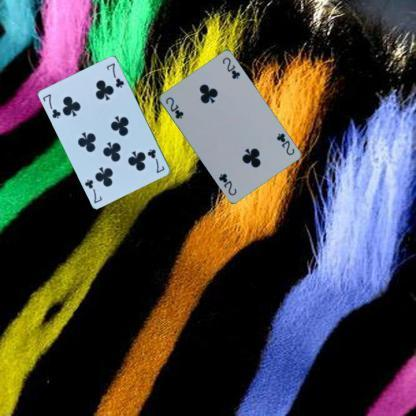2c: (163, 94, 185, 120), (274, 130, 296, 156)
7c: (40, 91, 62, 120), (145, 146, 166, 175)
